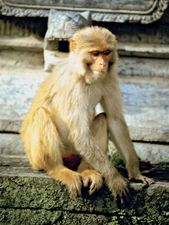monkey: (38, 17, 160, 220)
